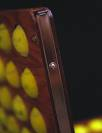tennis ball: (11, 25, 30, 57), (20, 68, 39, 98)
